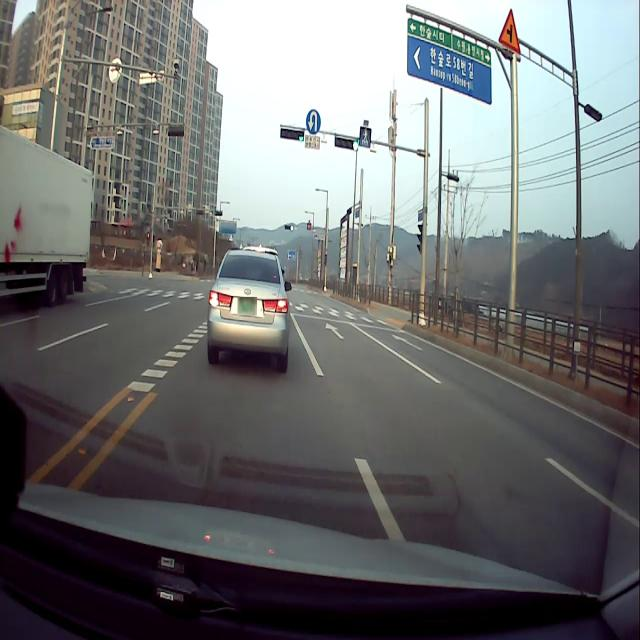Green Light: (352, 139, 359, 151), (298, 130, 304, 141), (290, 225, 294, 232)
